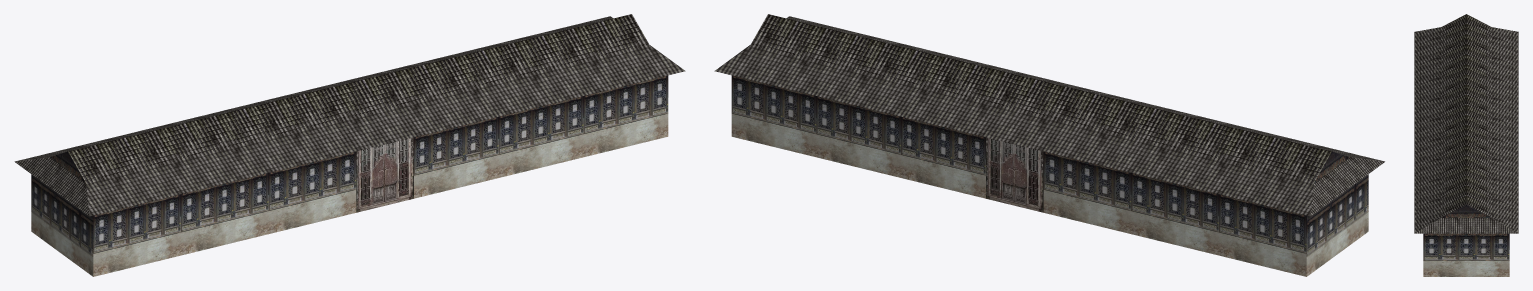
The model's file is ian1475.obj.
3 views of the same model, side by side, from view 1: azimuth 30°, elevation 25°; view 2: azimuth 150°, elevation 25°; view 3: azimuth 270°, elevation 25° (orthographic). The views are drawn at different scales.
Parts seen in each view (by area): view 1: ian1475; view 2: ian1475; view 3: ian1475.
Boxes of the visible parts, x1,y1,x2,y2 form: ian1475: [14, 14, 685, 276]; ian1475: [714, 14, 1384, 276]; ian1475: [1414, 14, 1518, 276].
Size of the model in its own units: 554 by 89.92 by 121.
